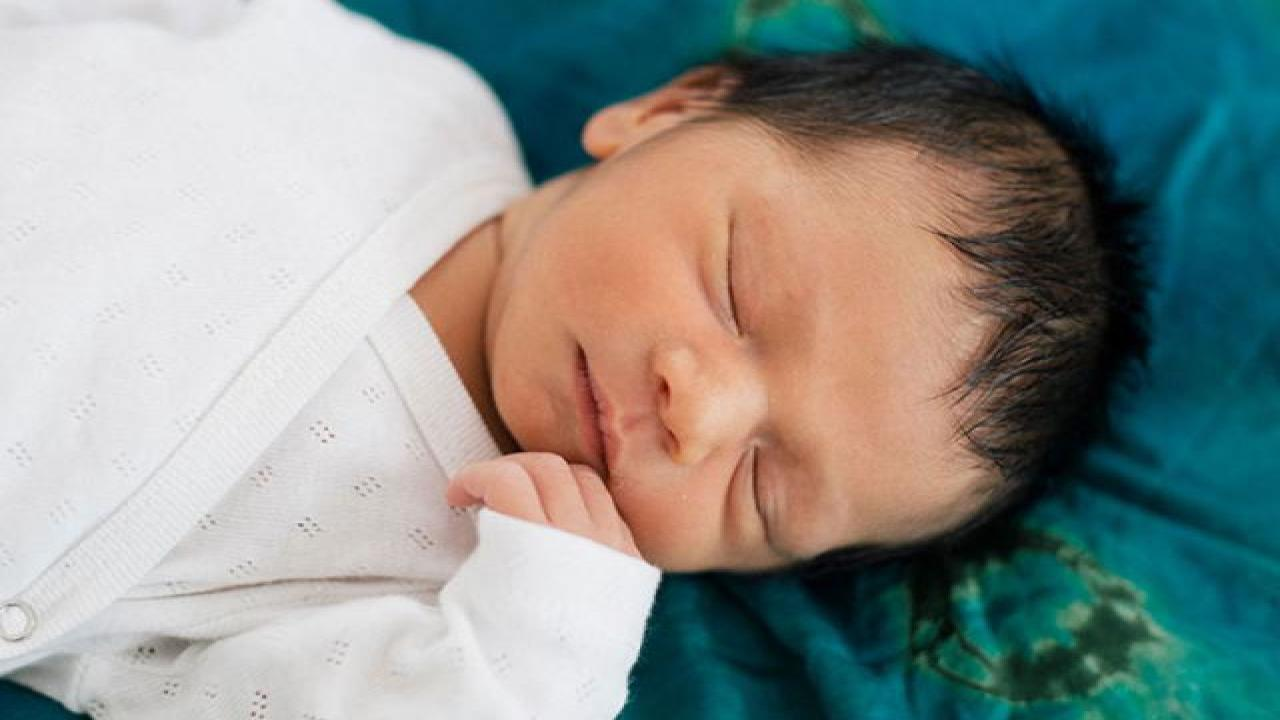hand: (437, 453, 637, 553)
